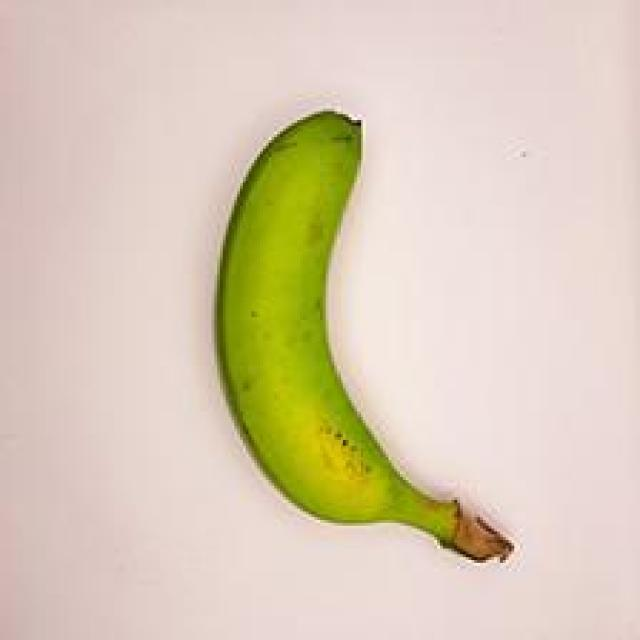Unripe: (176, 79, 532, 582)
